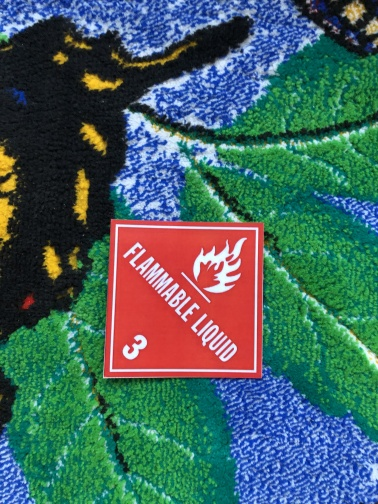FlammableLiquid: (110, 218, 269, 380)
